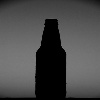beer: (36, 15, 65, 100)
